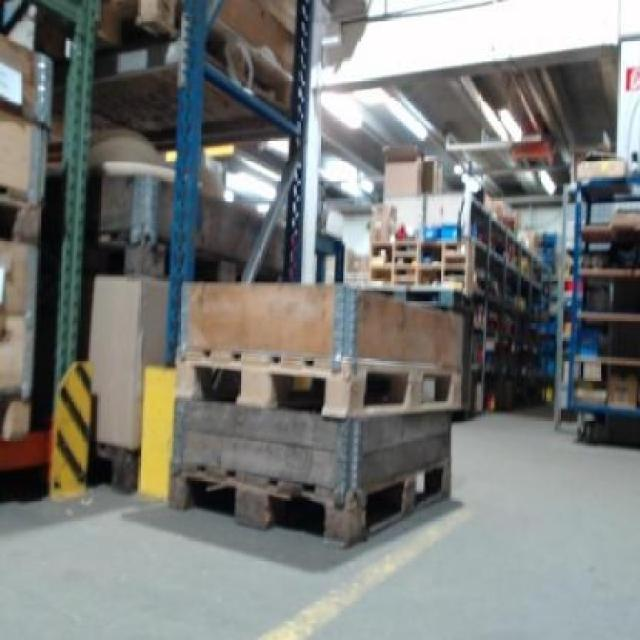floor: (0, 411, 637, 637)
pallets: (169, 282, 462, 543), (560, 172, 637, 443)
